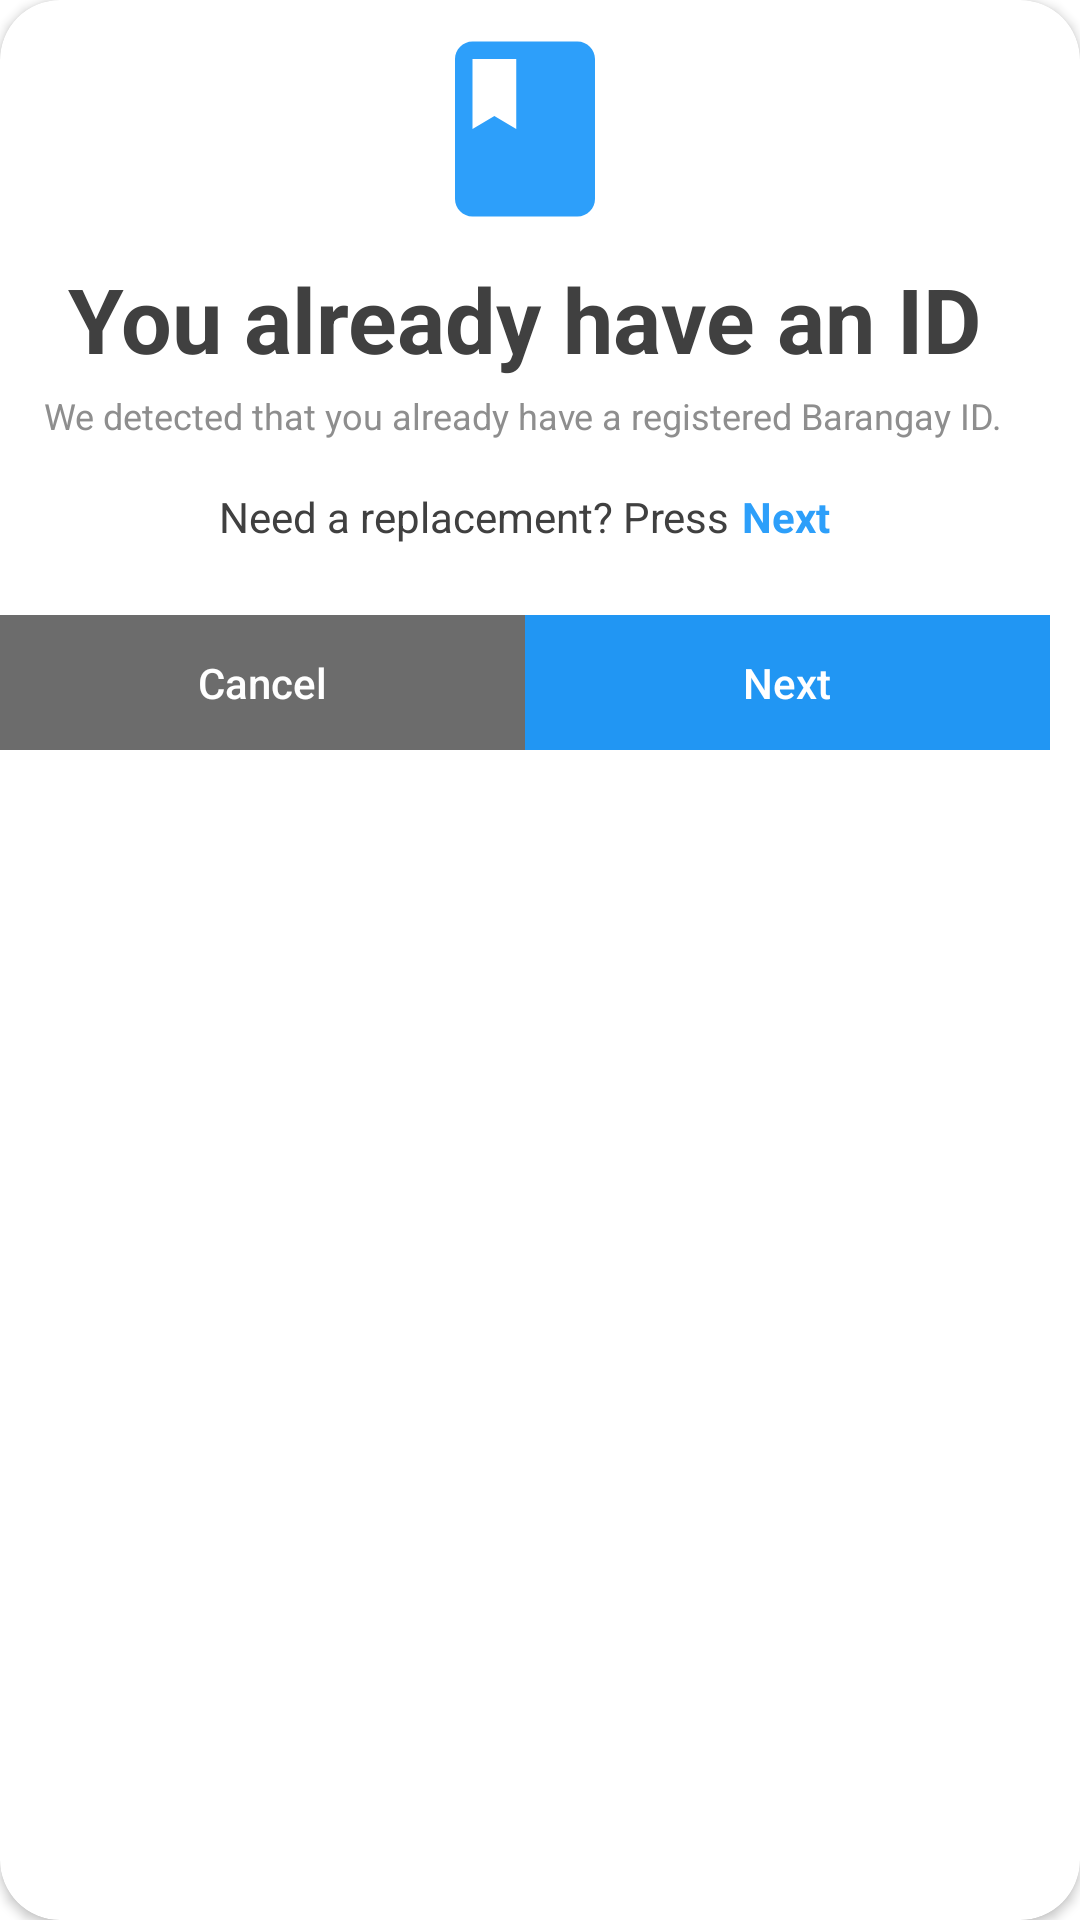

Named icons in this screenshot (1080px×1920px) and their centers, (x=x, y=y):
class: (x=525, y=129)
